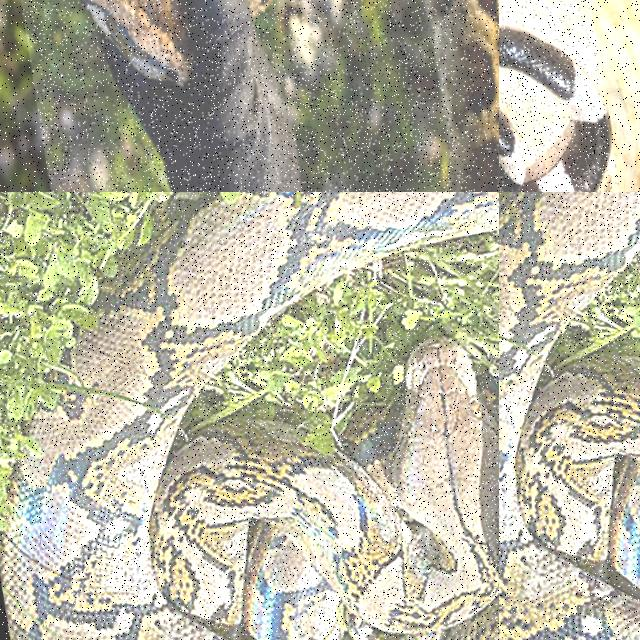Bungarus candidus: (499, 30, 611, 191)
Malayopython reticulatus: (0, 192, 498, 639), (499, 192, 639, 639)
Python bivittatus: (425, 0, 498, 191)
